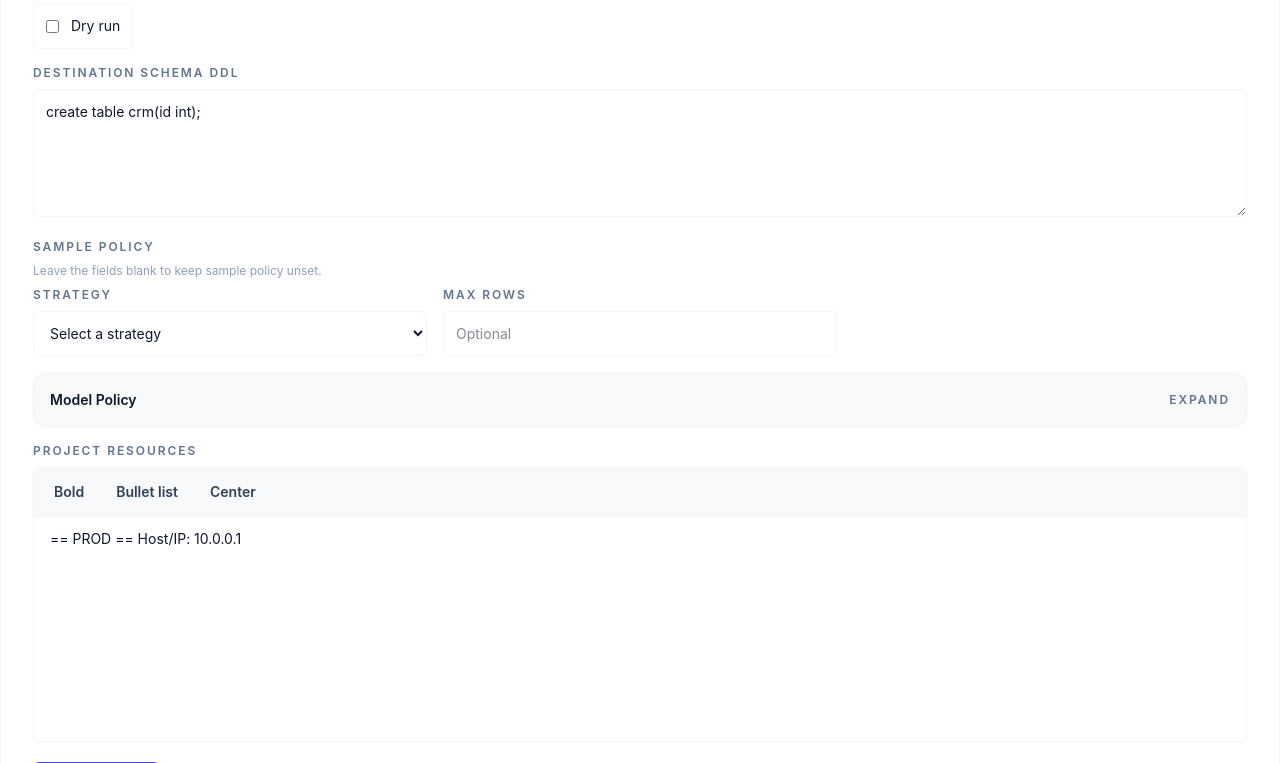
ProjectEditForm › renders the Model Policy section with task inputs
(page scrolled)
Check: the field labelled "Field mapping model" is not shown
What coordinates should you click on to do the following:
click the button "Model Policy Expand"
I would click on:
 (93, 400)
Its box is [33,373,1247,427].
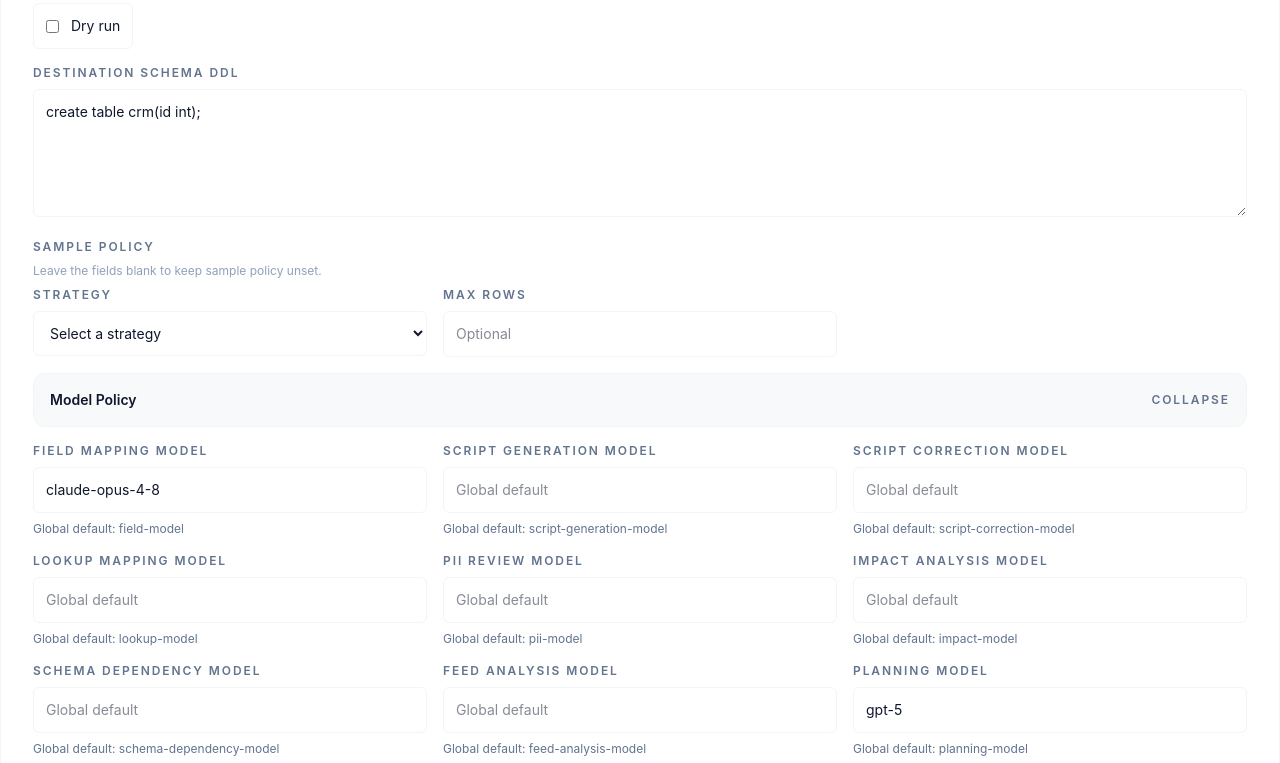
Check: the field named "Field mapping model" is shown, box [33,467,427,513]
Check: the field named "Script generation model" is shown, box [443,467,837,513]
Check: the text "Global default: field-model" is shown, box [33,521,184,536]
